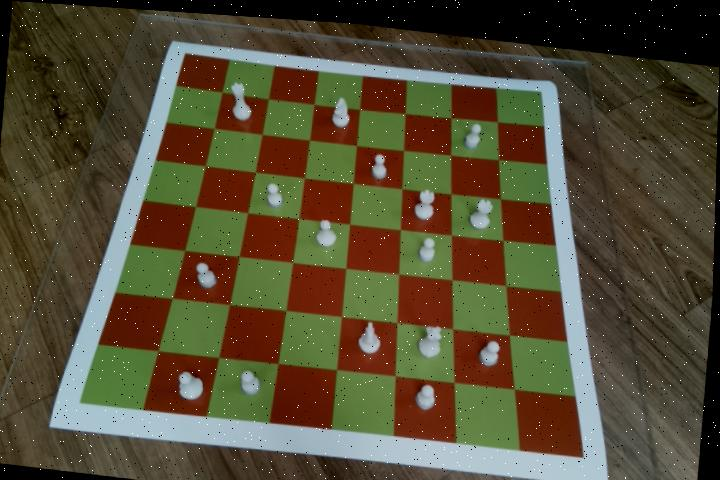chessboard-detect: (82, 48, 587, 451)
